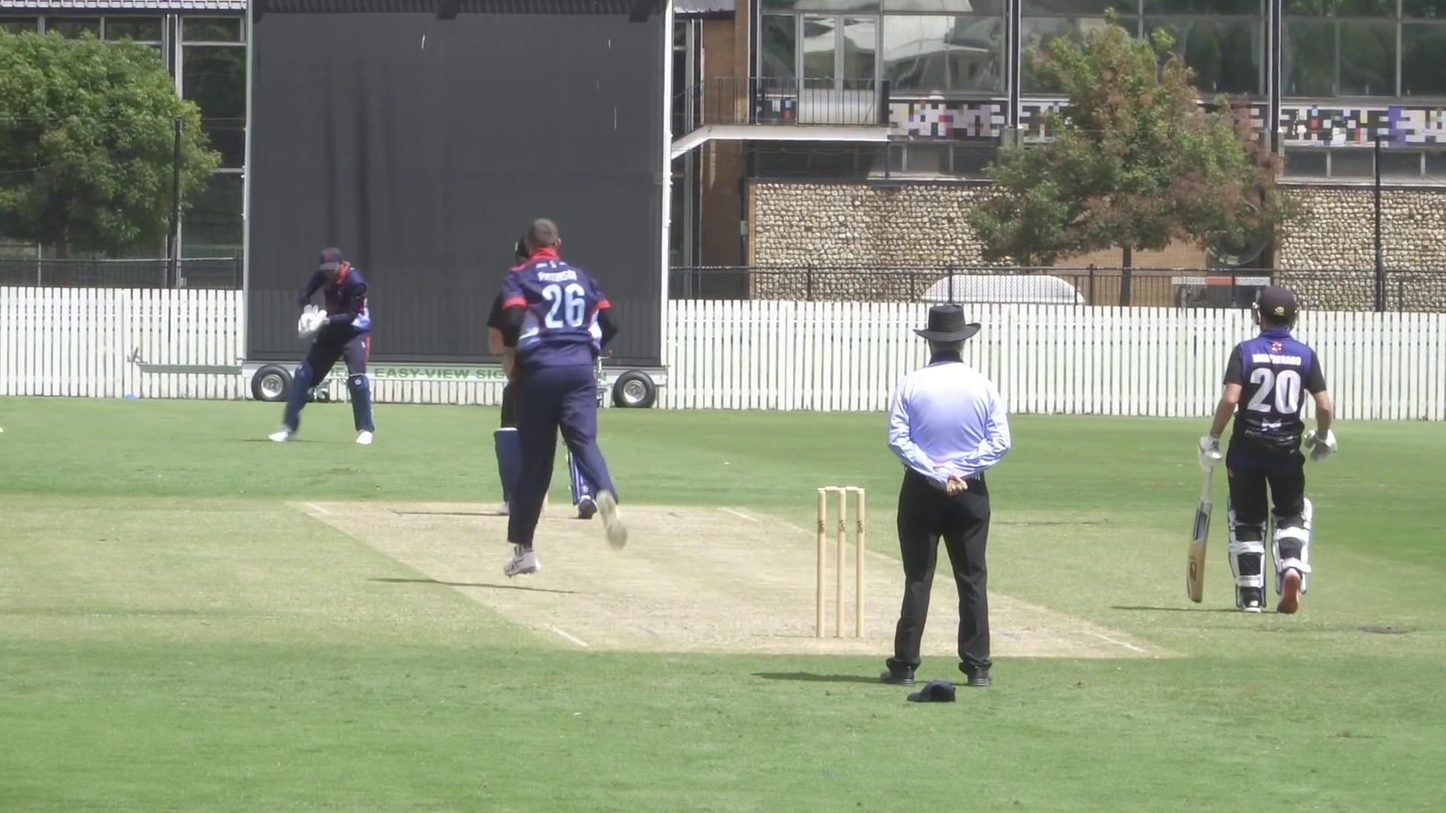ball: (301, 315, 324, 332)
